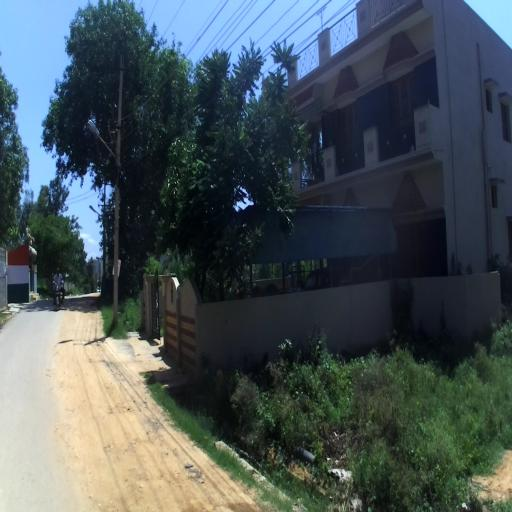street_light_0: (87, 120, 121, 182), (89, 205, 102, 217)
